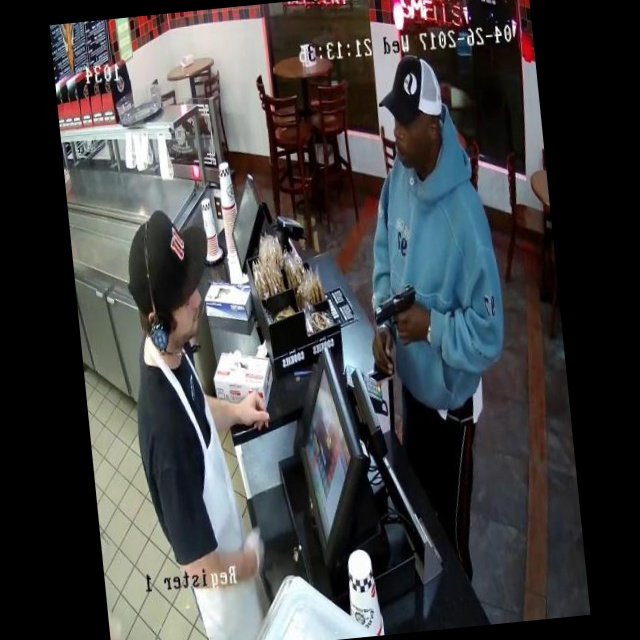gun: (364, 267, 437, 352)
